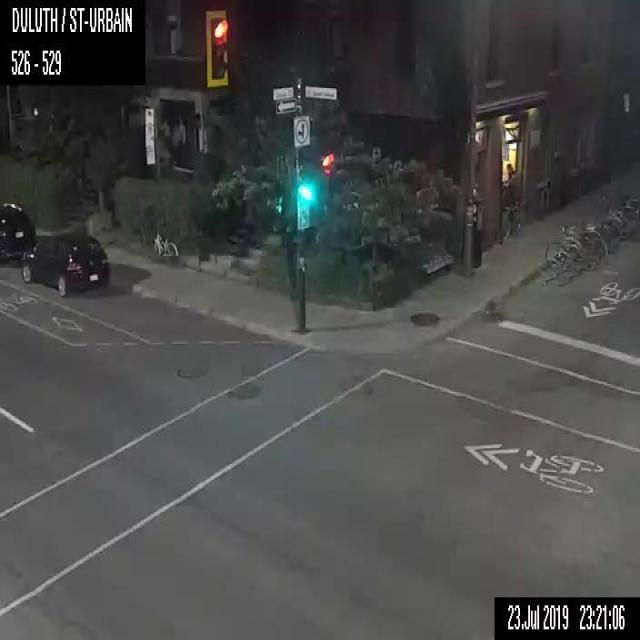vehicle: (21, 233, 109, 297), (0, 202, 35, 264)
